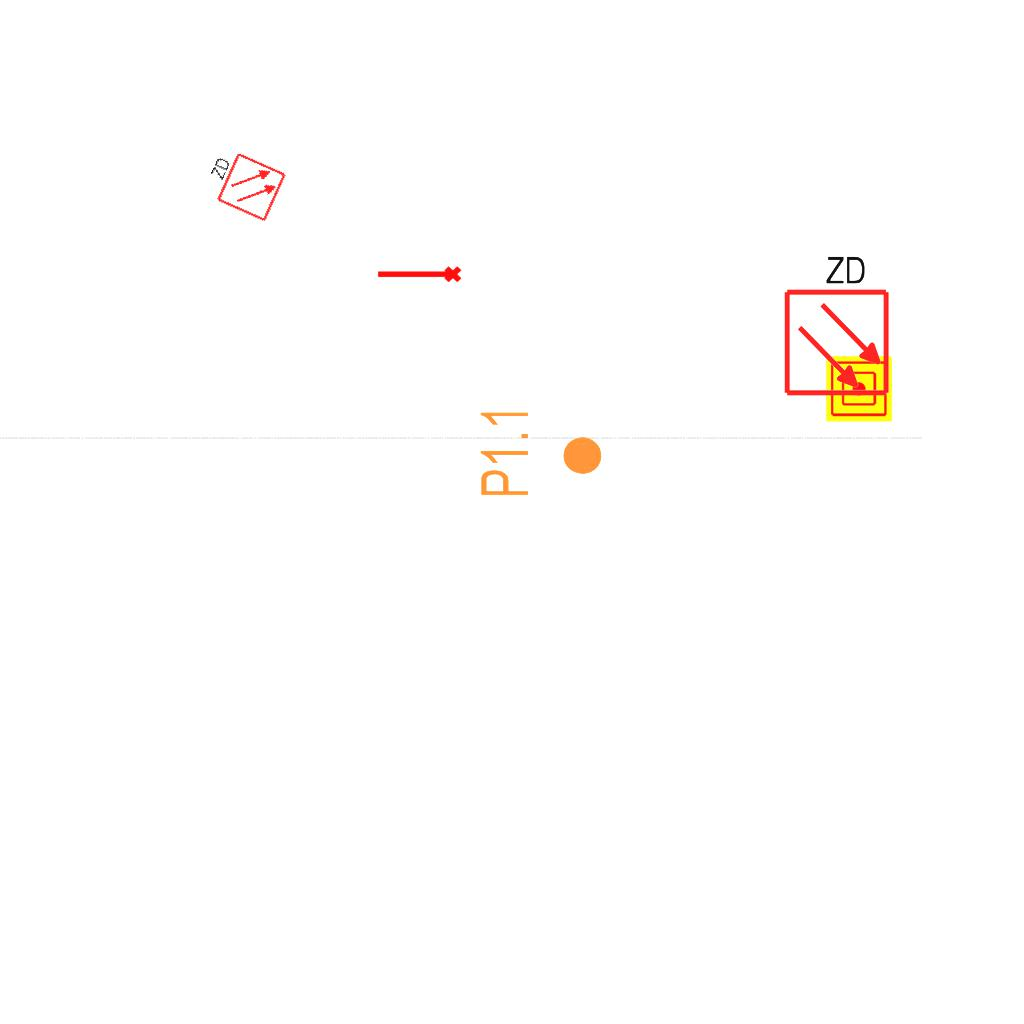ASR_Ansaugoeffnung: (375, 264, 463, 287)
Downlight_LED_Einbauleuchten_Flur: (477, 406, 605, 499)
NAM-Nichtautomatischer_Melder: (826, 356, 892, 422)
ZD_Melder_in_Zwischendecke_mit_Revisionsoeffnung_mind_40_x_40_cm: (778, 249, 892, 398), (197, 142, 288, 226)
